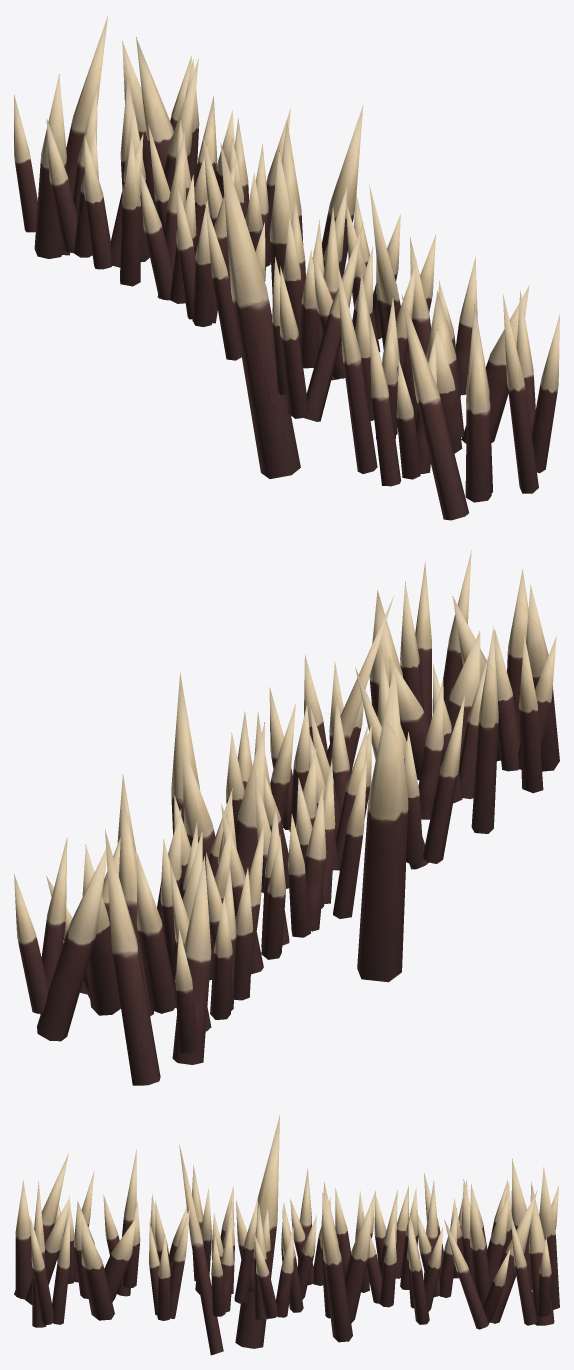
The model's file is SpikesGround.fbx.
3 renders of one model, top to bottom at view 1: azimuth 30°, elevation 25°; view 2: azimuth 150°, elevation 25°; view 3: azimuth 270°, elevation 25°, orthographic. The views are drawn at different scales.
Parts seen in each view (by area): view 1: Cylinder; view 2: Cylinder; view 3: Cylinder.
Part boxes in pixels (x1,y1,x2,y2): Cylinder: (14,16,559,520); Cylinder: (14,550,559,1085); Cylinder: (14,1115,559,1355).
Size of the model in its own units: 19.57 by 33.61 by 75.84.
